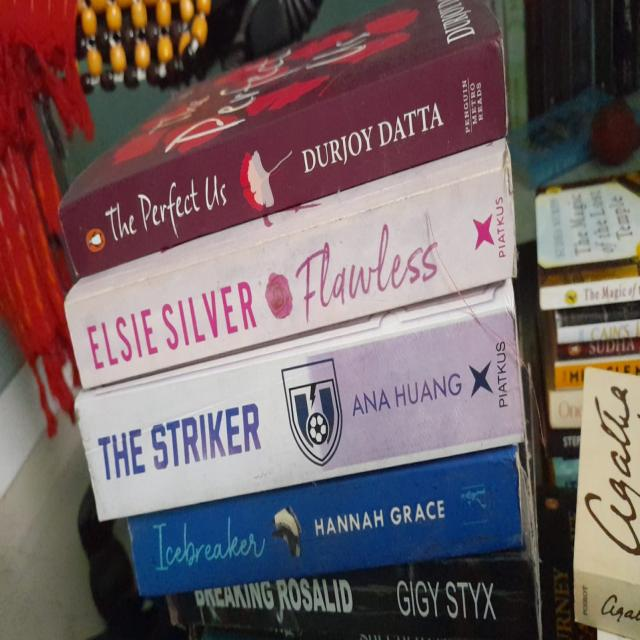book: (62, 30, 508, 283), (64, 163, 515, 392), (77, 311, 524, 520), (134, 453, 528, 593)
